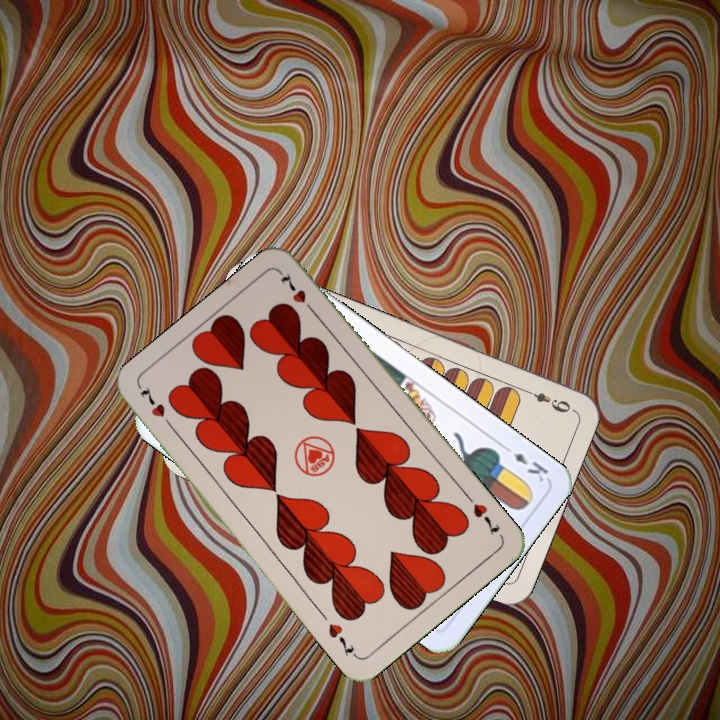E9: (519, 385, 574, 416)
EK: (498, 440, 552, 485)
H7: (135, 383, 178, 433), (461, 490, 503, 538)
